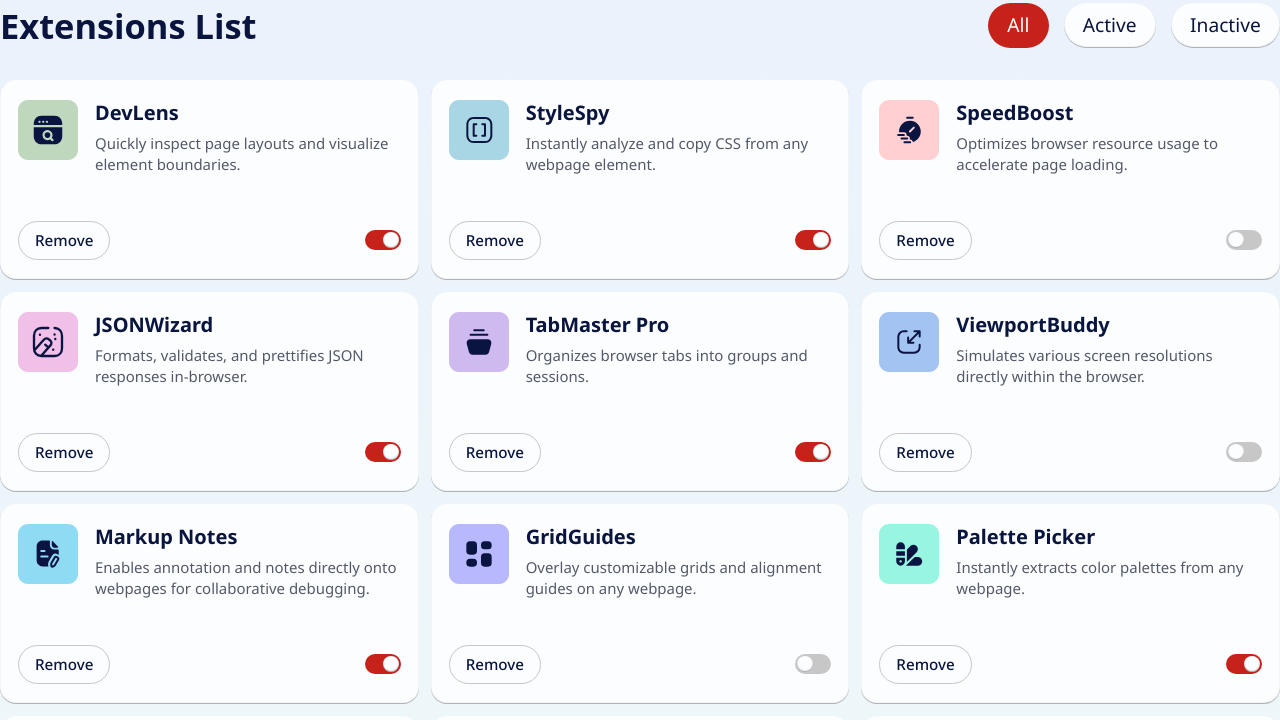
Test: Remove flow › shows correct modal behavior when clicking a remove button
The width and height of the screenshot is (1280, 720).
Click the button "Remove" below "DevLens" at (64, 240), box x1=18 y1=221 x2=110 y2=260
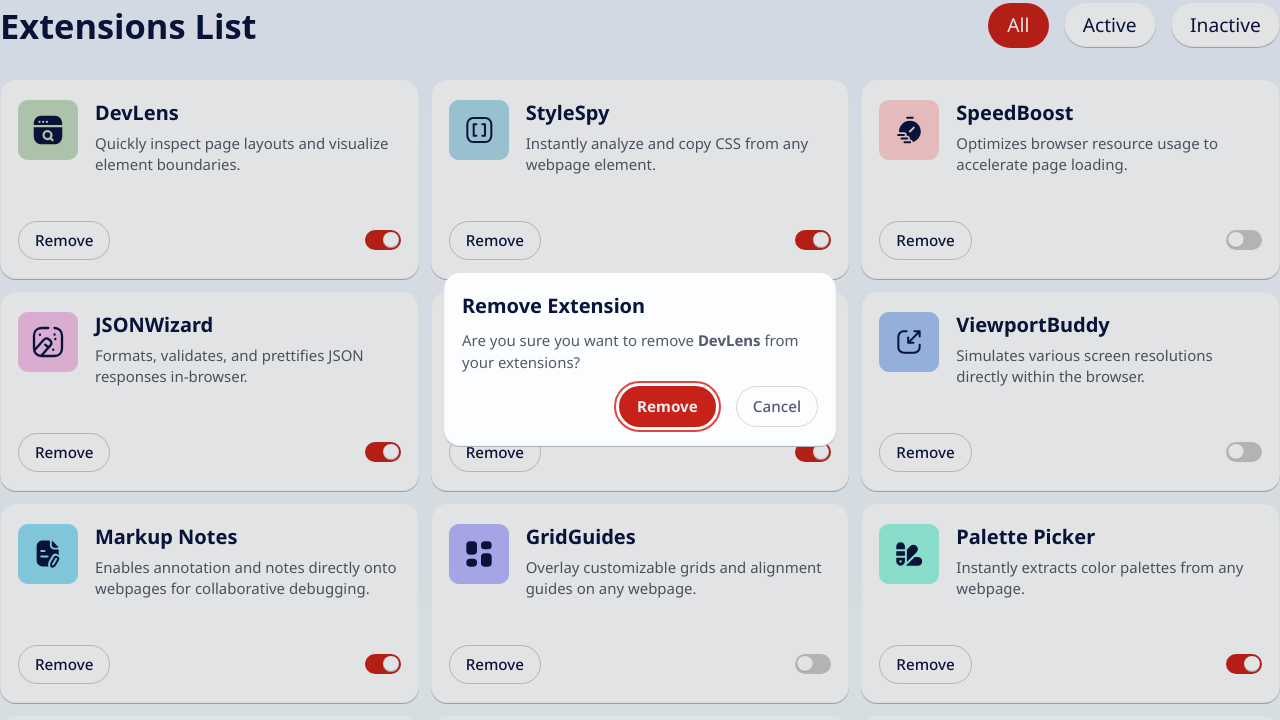
Now the button with aria-label "remove devlens from extensions" is shown, box x1=619 y1=386 x2=716 y2=427
Click the button "Cancel" at (777, 406), box x1=736 y1=386 x2=818 y2=427
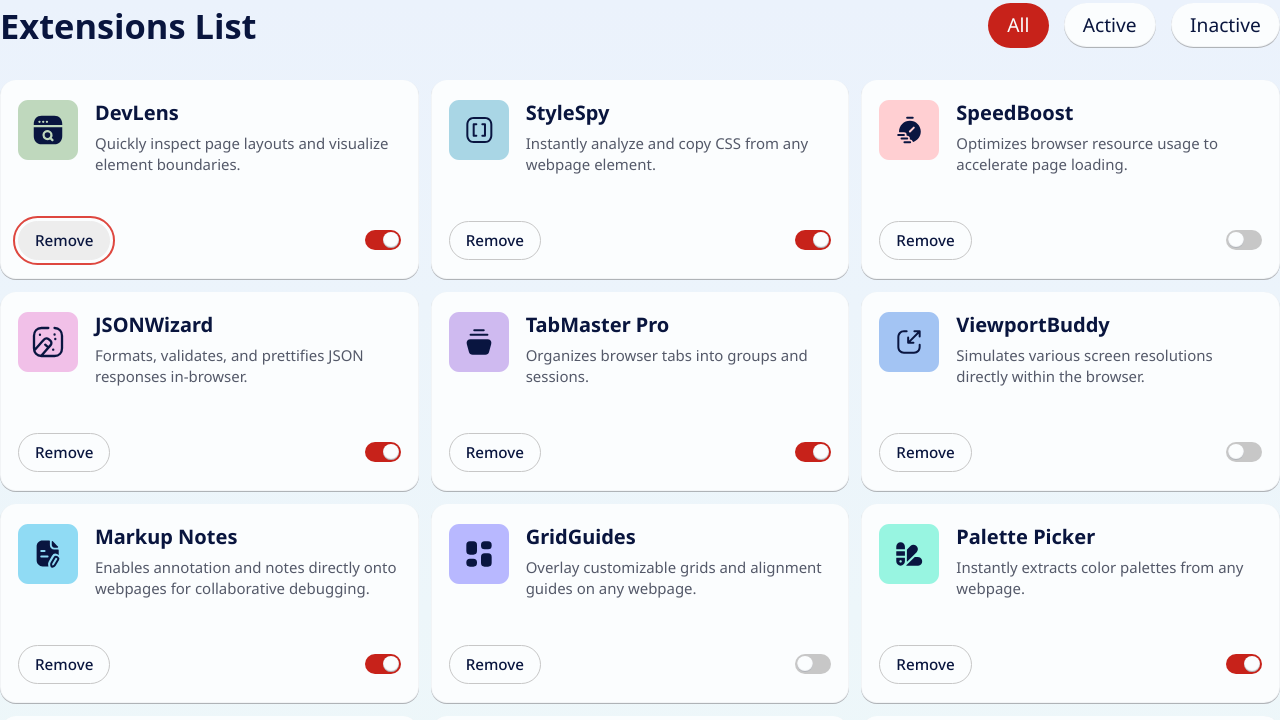
Expected: the element "DevLens" is shown, x1=0 y1=80 x2=419 y2=280
Click the button "Remove" below "DevLens" at (64, 240), box x1=18 y1=221 x2=110 y2=260
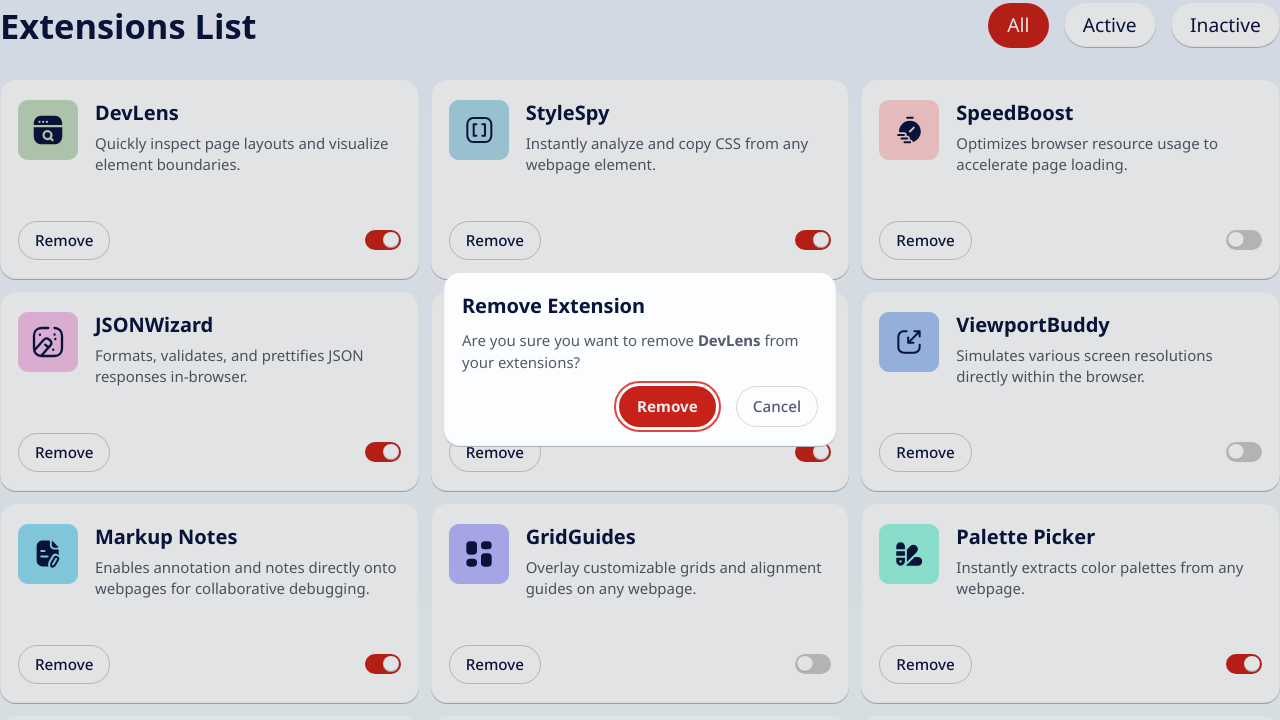
Click the button with aria-label "remove devlens from extensions" at (668, 406), box x1=619 y1=386 x2=716 y2=427
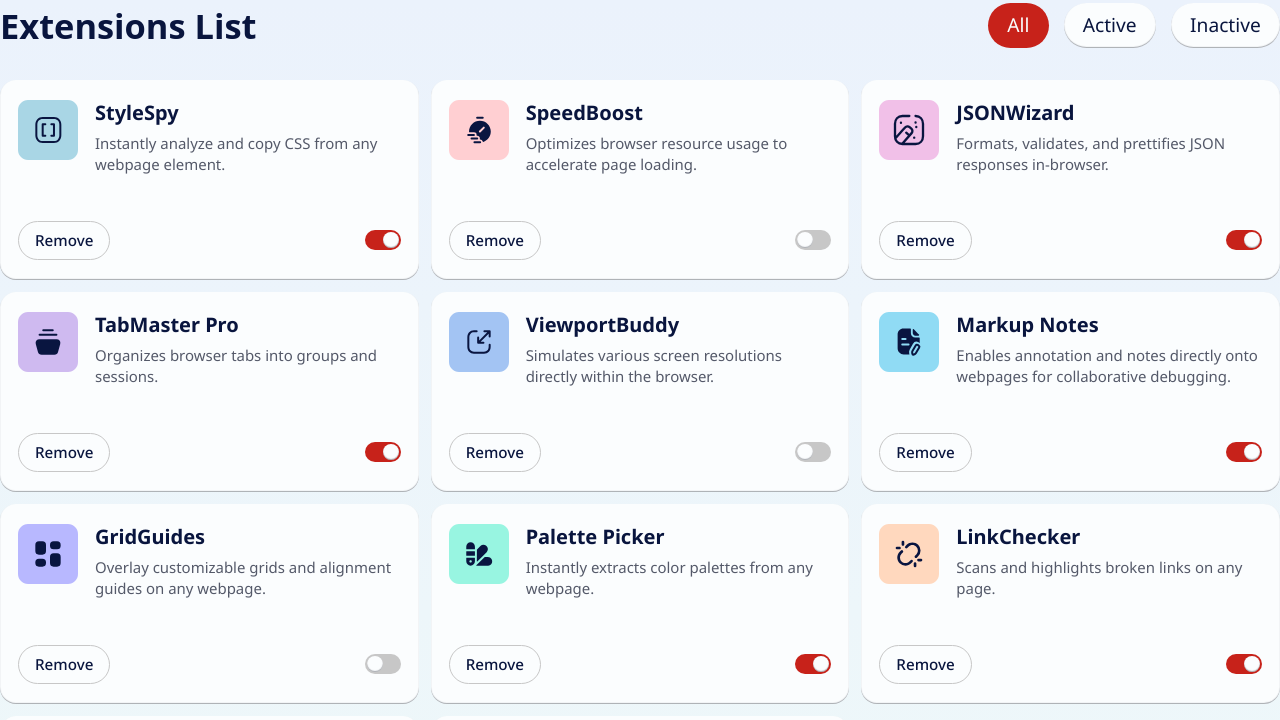
Now the heading "DevLens" is gone
